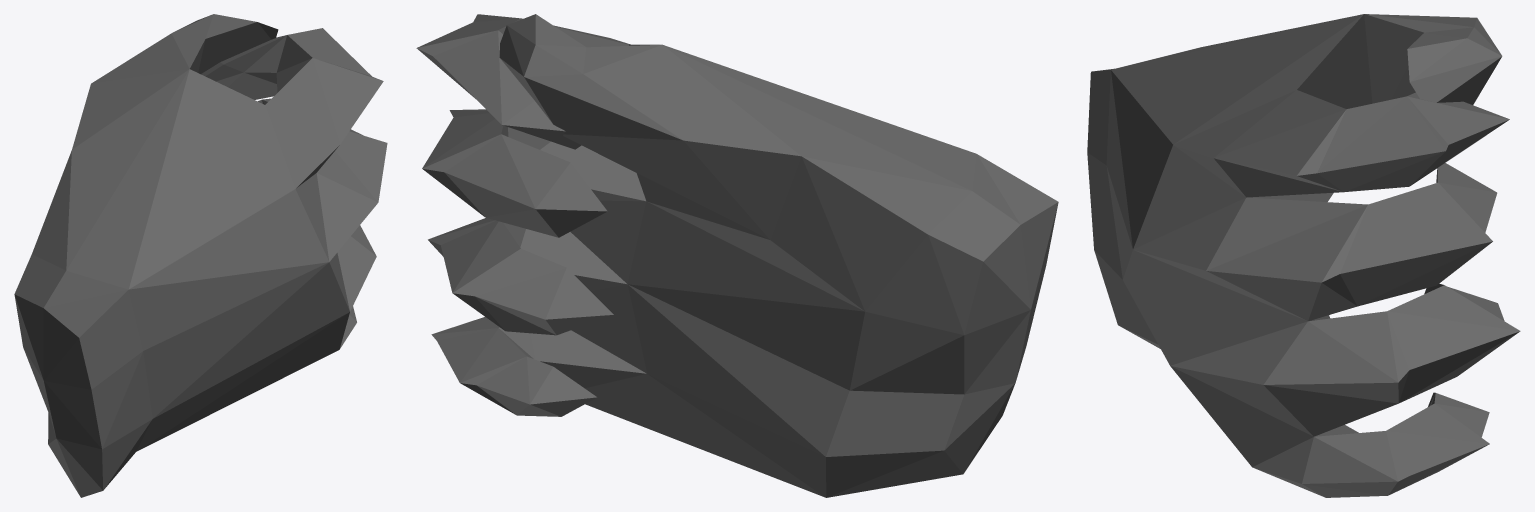
Rendered from Hand_Closed.fbx.
3 views of the same model, side by side, from view 1: azimuth 30°, elevation 25°; view 2: azimuth 150°, elevation 25°; view 3: azimuth 270°, elevation 25° (orthographic). The views are drawn at different scales.
Parts seen in each view (by area): view 1: Hand_Closed; view 2: Hand_Closed; view 3: Hand_Closed.
Part boxes in pixels (x1,y1,x2,y2): Hand_Closed: (14,14,387,497); Hand_Closed: (416,14,1058,497); Hand_Closed: (1087,14,1520,497).
Size of the model in its own units: 42.28 by 36.16 by 28.98.
